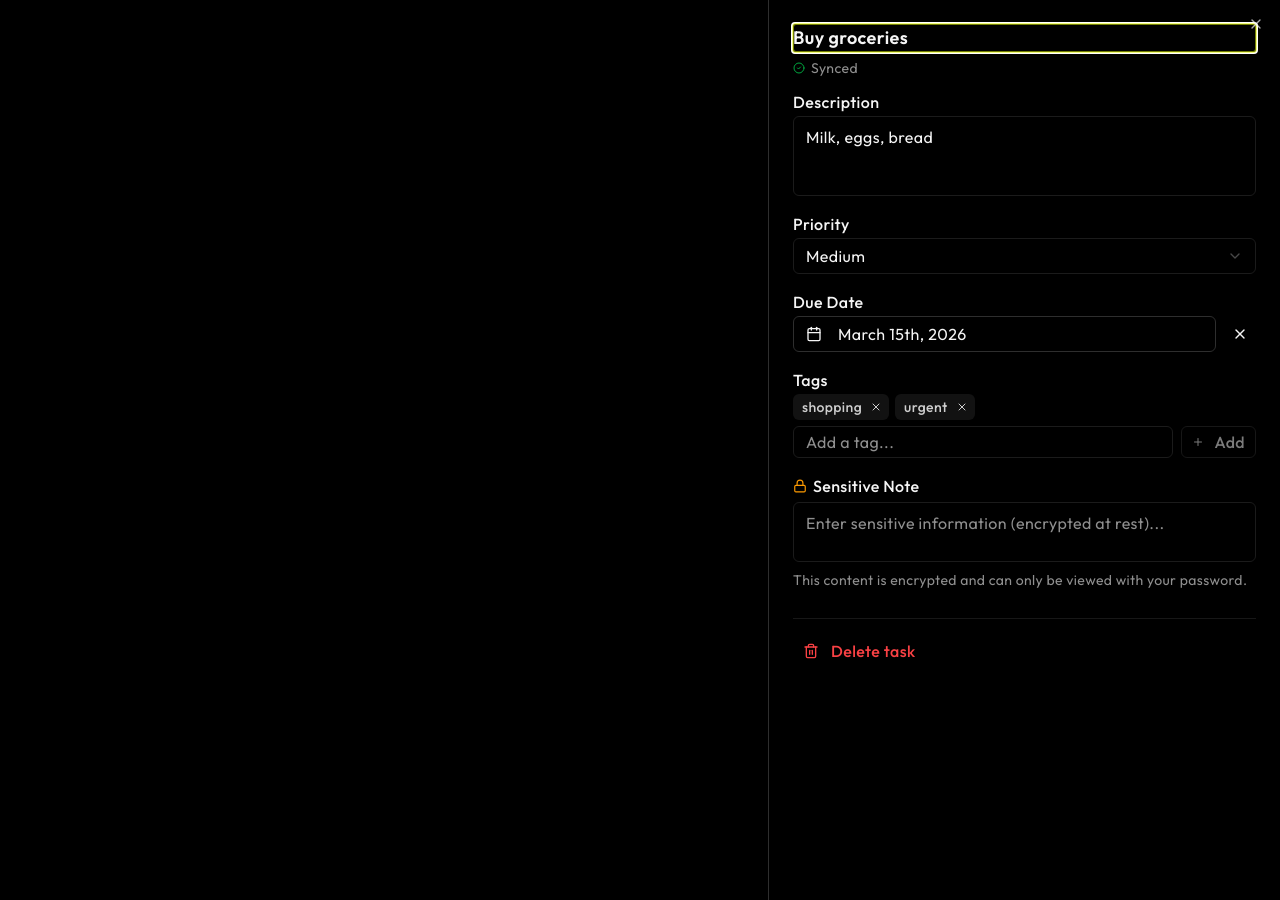
Test: TaskDetailSheet › tag suggestions › should filter suggestions as user types
This screenshot has width=1280, height=900.
Type "wo" into the field named "New tag".
click(983, 442); type("wo")  # box [793,426,1174,458]
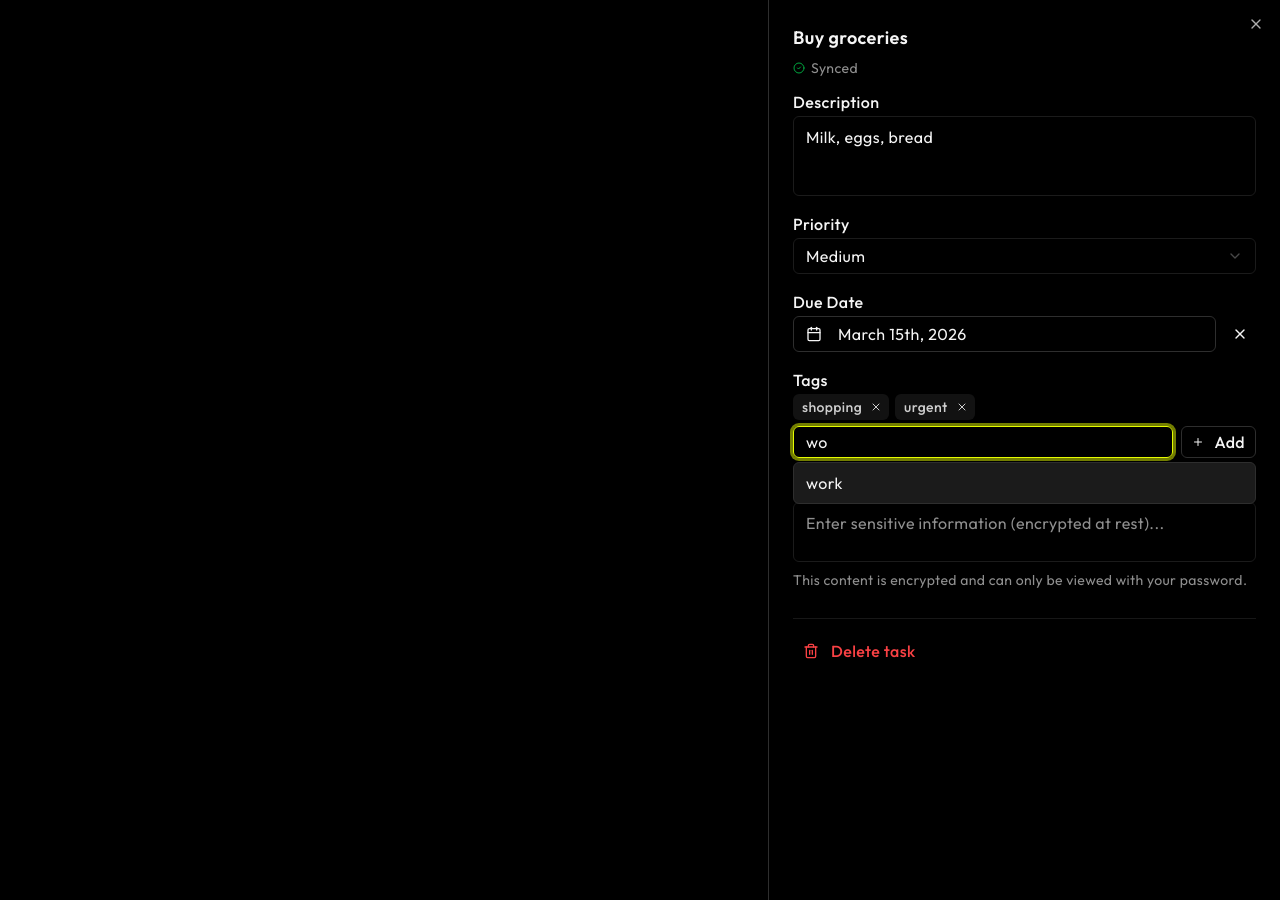
Now the option "work" is shown, box [806,473,843,493]
